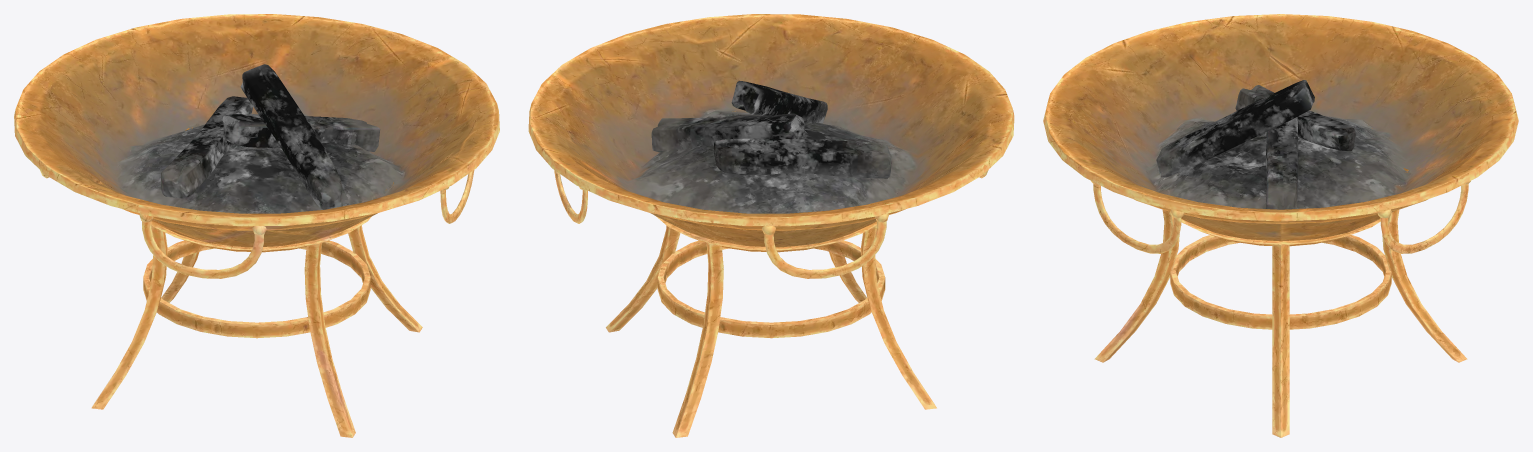
The picture shows the model from 3 angles, left to right: view 1: azimuth 30°, elevation 25°; view 2: azimuth 150°, elevation 25°; view 3: azimuth 270°, elevation 25°; orthographic projection. The views are drawn at different scales.
Visible parts, largest first — view 1: SM_Dragonkeep_Brazier_01_LOD0; view 2: SM_Dragonkeep_Brazier_01_LOD0; view 3: SM_Dragonkeep_Brazier_01_LOD0.
Part boxes in pixels (x1,y1,x2,y2): SM_Dragonkeep_Brazier_01_LOD0: [14, 14, 499, 437]; SM_Dragonkeep_Brazier_01_LOD0: [528, 14, 1014, 437]; SM_Dragonkeep_Brazier_01_LOD0: [1043, 14, 1518, 437].
Bounding box in the file's own units: 1.02 × 0.666 × 1.02.
Materials: 1 (1 with a texture image).
